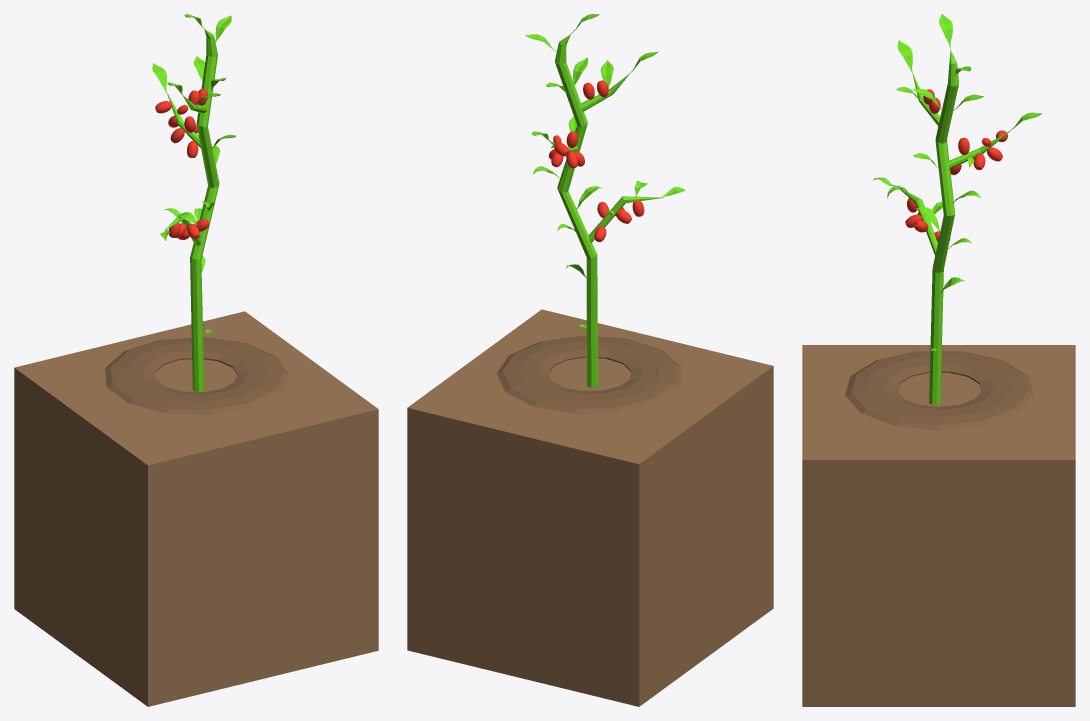
Rendered from CoffeePhase3.fbx.
3 views of the same model, side by side, from view 1: azimuth 30°, elevation 25°; view 2: azimuth 150°, elevation 25°; view 3: azimuth 270°, elevation 25° (orthographic). The views are drawn at different scales.
Visible parts, largest first — view 1: Cube.001, Cube, Torus, Plant.001; view 2: Cube, Torus, Plant.001, Cube.001; view 3: Cube, Cube.001, Torus, Plant.001.
Boxes of the visible parts, box(x1,y1,x2,y2) form: Cube.001: box(15, 311, 378, 706); Cube: box(14, 311, 377, 705); Torus: box(105, 337, 289, 415); Plant.001: box(152, 14, 236, 391); Cube: box(407, 310, 772, 706); Torus: box(496, 335, 681, 414); Plant.001: box(525, 14, 685, 387); Cube.001: box(408, 309, 773, 706); Cube: box(803, 345, 1075, 706); Cube.001: box(802, 345, 1074, 706); Torus: box(845, 351, 1033, 430); Plant.001: box(873, 14, 1042, 404).
Size of the model in its own units: 100 by 255 by 100.
